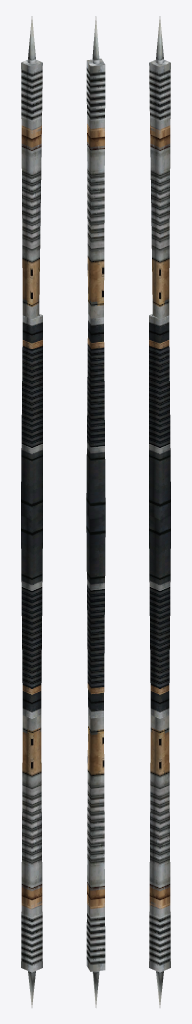
File: wp_mle_lance_electric_polearm_l2.fbx
3 renders of one model, left to right at view 1: azimuth 90°, elevation 25°; view 2: azimuth 150°, elevation 25°; view 3: azimuth 270°, elevation 25°, orthographic.
Parts seen in each view (by area): view 1: mesh_node; view 2: mesh_node; view 3: mesh_node.
Part boxes in pixels (x1=…): mesh_node: x1=21, y1=16, x2=42, y2=1007; mesh_node: x1=86, y1=16, x2=105, y2=1007; mesh_node: x1=149, y1=16, x2=170, y2=1007.
Bounding box in the file's own units: 0.0312 × 1.54 × 0.0312.
Materials: 1 (1 with a texture image).
